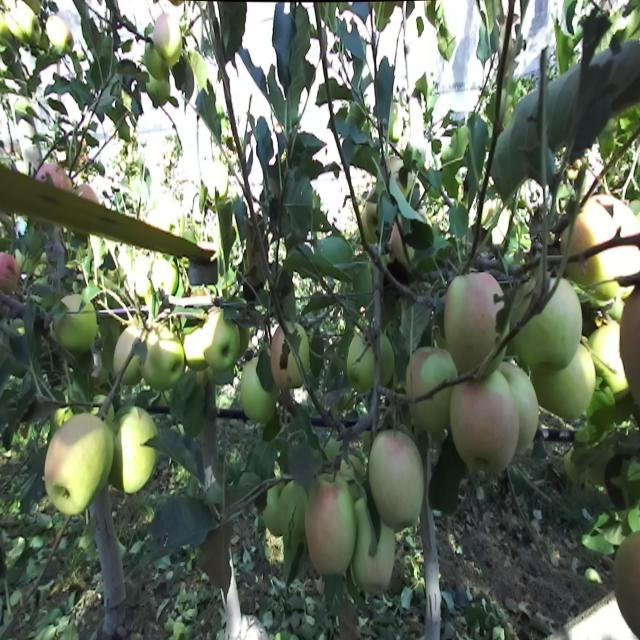apple: (46, 412, 114, 516), (444, 271, 507, 375), (452, 375, 518, 471), (512, 278, 582, 368), (562, 200, 625, 296), (369, 430, 423, 528), (306, 473, 355, 576), (112, 406, 158, 497), (531, 351, 595, 416), (407, 347, 452, 431), (354, 498, 394, 591), (599, 194, 640, 276), (503, 362, 537, 454), (612, 532, 640, 638), (589, 322, 628, 398), (142, 327, 184, 393), (54, 295, 97, 349), (272, 321, 308, 385), (241, 358, 275, 422), (620, 290, 640, 398), (204, 310, 239, 371), (114, 326, 142, 388), (347, 332, 374, 394), (279, 480, 308, 536), (154, 12, 182, 66), (5, 0, 40, 43), (46, 14, 74, 56), (184, 327, 208, 373), (37, 164, 73, 191), (145, 35, 166, 78), (264, 490, 282, 536), (145, 76, 170, 104), (365, 190, 381, 232), (380, 330, 393, 379), (74, 182, 98, 202)
